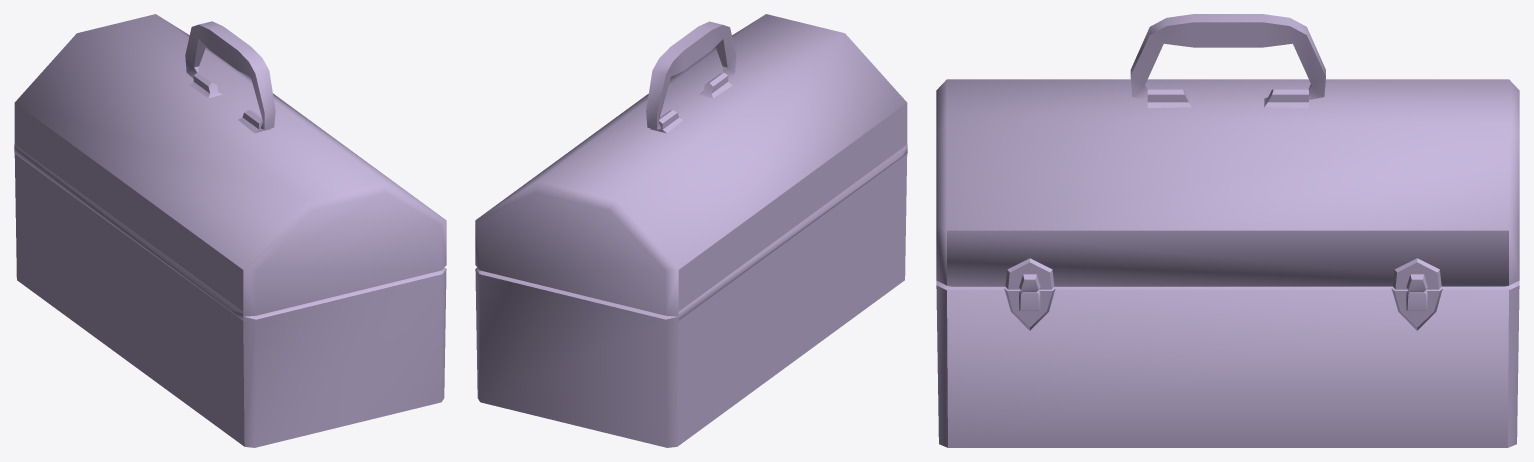
The model's file is boxtool1.fbx.
The picture shows the model from 3 angles, left to right: view 1: azimuth 30°, elevation 25°; view 2: azimuth 150°, elevation 25°; view 3: azimuth 270°, elevation 25°; orthographic projection. The views are drawn at different scales.
Parts seen in each view (by area): view 1: toolbox; view 2: toolbox; view 3: toolbox.
Part boxes in pixels (x1=…): toolbox: x1=14, y1=14, x2=446, y2=447; toolbox: x1=475, y1=14, x2=907, y2=447; toolbox: x1=936, y1=14, x2=1519, y2=447.
Bounding box in the file's own units: 30.52 × 41.07 × 58.67.
